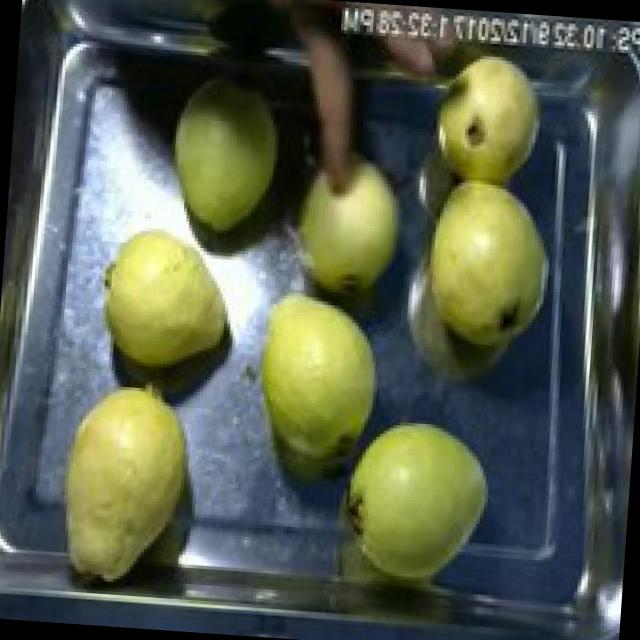Fruit: (35, 365, 213, 600), (232, 270, 396, 500), (69, 198, 257, 392), (327, 405, 499, 595), (404, 166, 564, 362), (149, 66, 295, 256), (269, 138, 419, 320), (419, 39, 554, 197)
